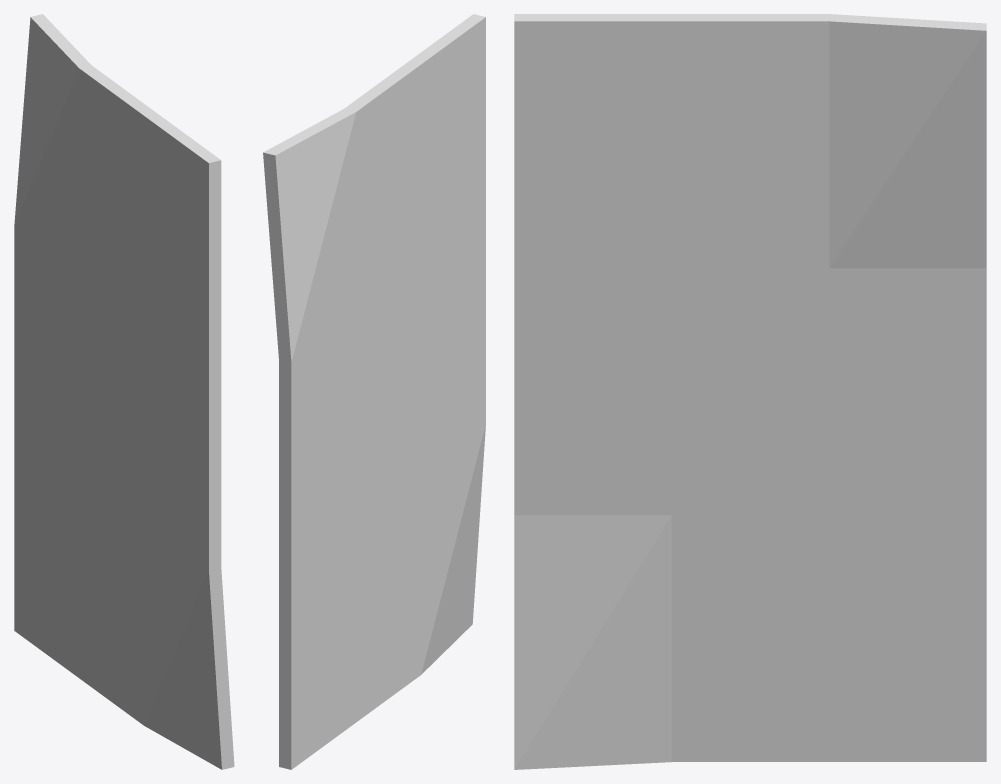
The model's file is papel.obj.
3 views of the same model, side by side, from view 1: azimuth 30°, elevation 25°; view 2: azimuth 150°, elevation 25°; view 3: azimuth 270°, elevation 25° (orthographic). The views are drawn at different scales.
Parts seen in each view (by area): view 1: Cube_Cube.001; view 2: Cube_Cube.001; view 3: Cube_Cube.001.
Boxes of the visible parts, bbox=[...] form: Cube_Cube.001: bbox=[14, 14, 234, 769]; Cube_Cube.001: bbox=[263, 14, 485, 769]; Cube_Cube.001: bbox=[514, 14, 986, 769].
Size of the model in its own units: 0.2186 by 4.49 by 2.59.
